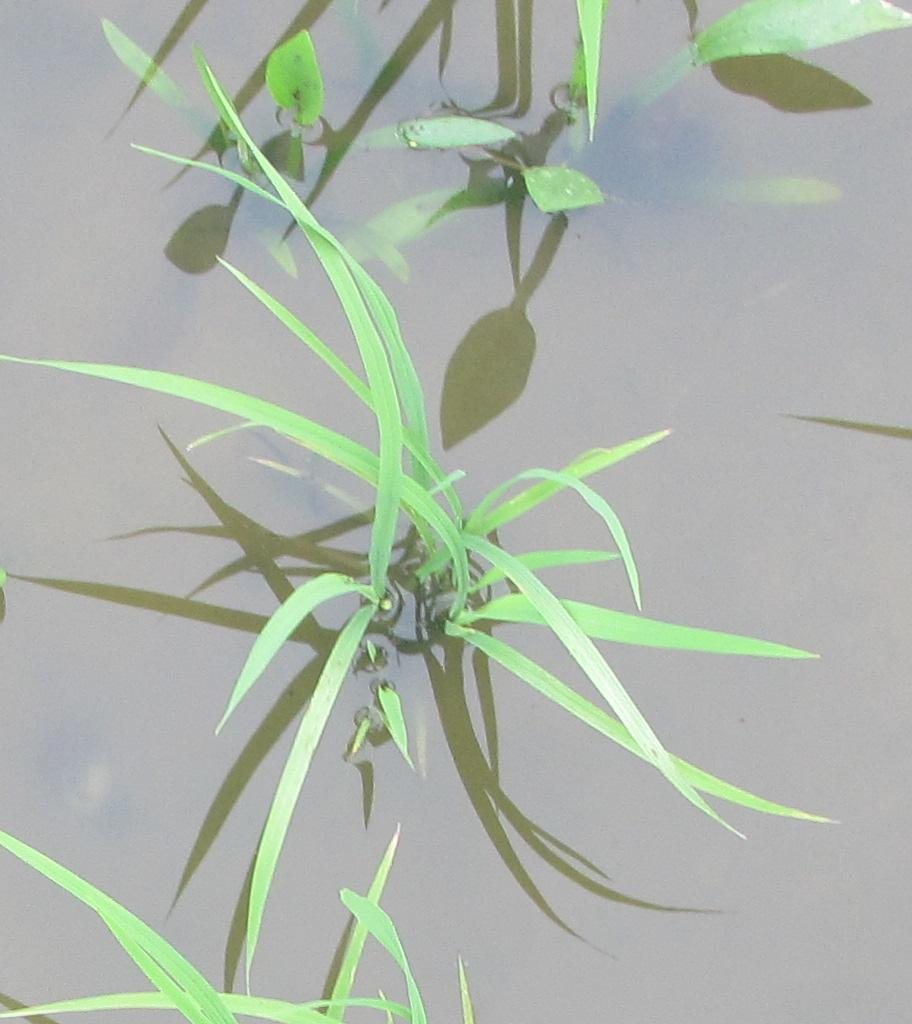Weed: (258, 24, 605, 232), (677, 1, 911, 86)
